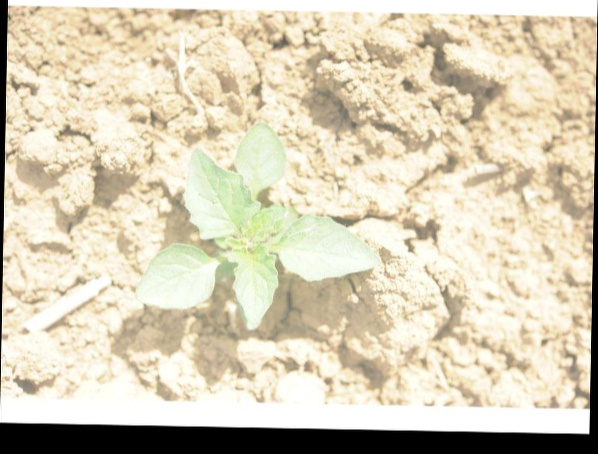nightshade: (136, 122, 379, 331)
